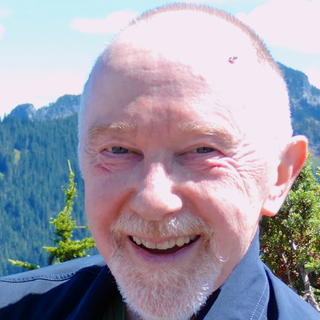eye: (175, 133, 229, 165), (99, 139, 141, 167)
